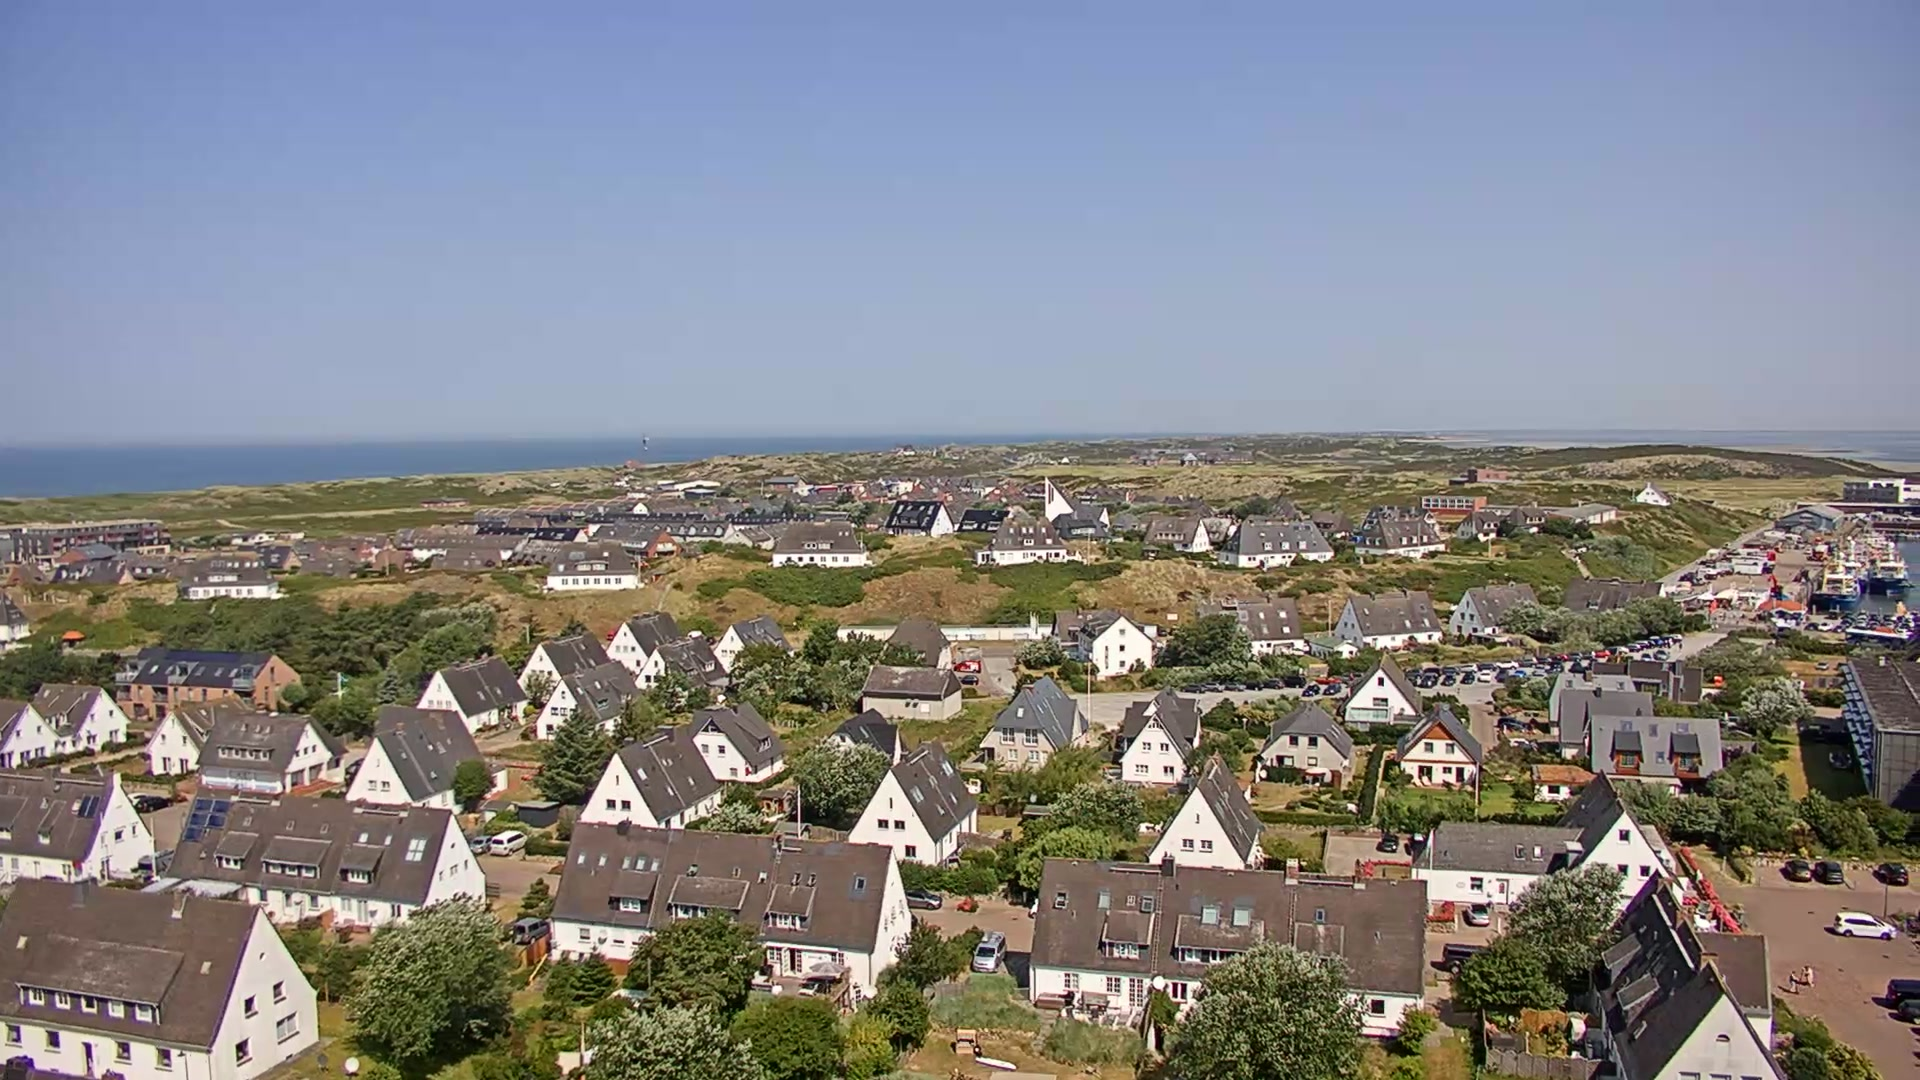human: (1803, 963, 1815, 988), (1789, 969, 1800, 992)
land: (1833, 912, 1897, 941), (1440, 942, 1495, 973), (971, 931, 1006, 974), (510, 916, 550, 944), (488, 827, 528, 855), (1884, 977, 1920, 1006), (1873, 861, 1909, 887), (1812, 859, 1845, 885), (903, 889, 942, 910), (1784, 856, 1813, 882), (132, 794, 173, 812), (1463, 903, 1490, 927), (1897, 997, 1919, 1023), (1404, 832, 1426, 856), (952, 657, 981, 674), (469, 835, 493, 855), (1277, 673, 1305, 688), (1378, 833, 1400, 853), (1498, 716, 1525, 729), (956, 672, 979, 687), (1419, 672, 1440, 687), (1178, 682, 1202, 694), (1406, 669, 1422, 687), (126, 792, 148, 806), (1302, 684, 1322, 698), (1517, 654, 1538, 667), (1494, 660, 1520, 670), (1202, 681, 1225, 692), (1500, 722, 1526, 733), (1223, 680, 1246, 691), (1322, 683, 1342, 695), (1705, 546, 1721, 561), (1609, 644, 1630, 654), (1244, 681, 1263, 691), (1460, 662, 1478, 672), (1564, 650, 1583, 661), (1533, 656, 1552, 666), (1654, 649, 1669, 661), (1581, 648, 1597, 660), (1595, 647, 1611, 659), (1477, 670, 1492, 682), (1461, 672, 1476, 685), (1441, 674, 1456, 686), (1261, 679, 1279, 689), (1549, 651, 1568, 661), (1626, 642, 1645, 651), (1442, 665, 1460, 674), (1817, 620, 1832, 630), (1856, 614, 1867, 626), (1478, 662, 1495, 670), (1511, 670, 1526, 679), (1495, 671, 1510, 680), (1640, 652, 1655, 661), (1805, 622, 1819, 631), (1907, 610, 1920, 620), (1828, 609, 1839, 619), (1870, 620, 1880, 629), (1532, 670, 1547, 677), (1653, 641, 1668, 647), (1900, 622, 1912, 630), (1669, 633, 1682, 640), (1635, 641, 1649, 648), (1841, 618, 1851, 626), (1792, 611, 1802, 619), (1660, 633, 1672, 640), (1834, 624, 1843, 631), (1883, 612, 1893, 619), (1857, 609, 1868, 615), (1870, 612, 1879, 619), (1884, 622, 1894, 629), (1845, 610, 1854, 617), (1897, 614, 1906, 621), (1649, 635, 1660, 640)
sea: (1813, 550, 1860, 610), (1869, 539, 1907, 596)
